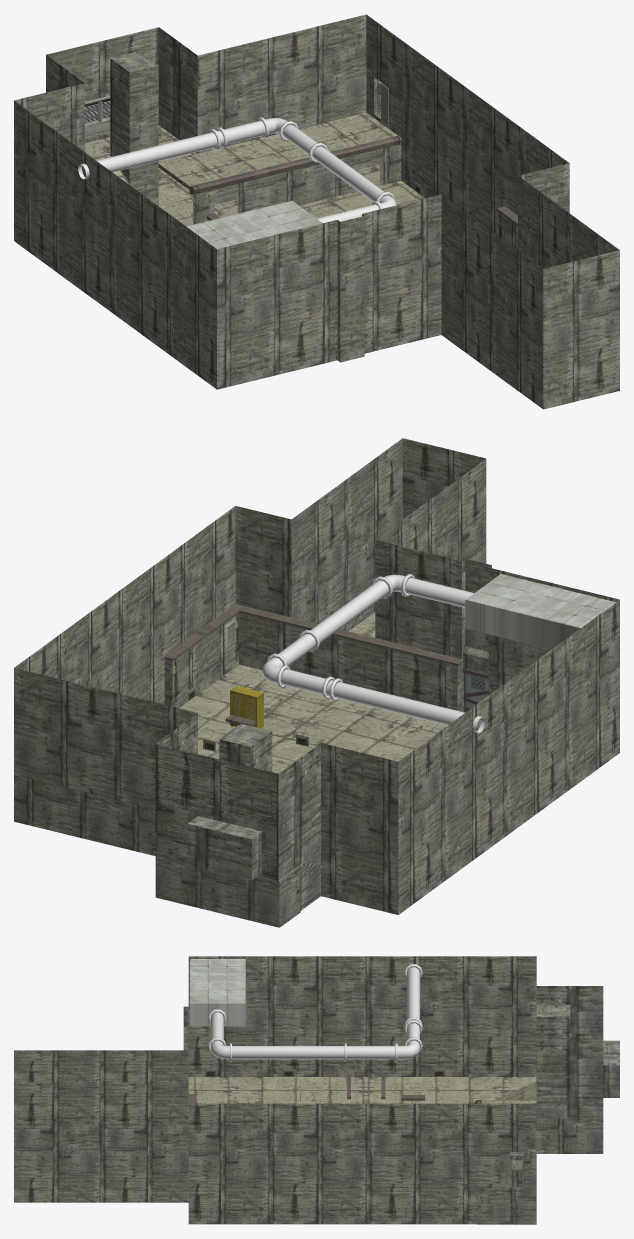
The model's file is SM_Republic_01_02.fbx.
3 views of the same model, one above another, from view 1: azimuth 30°, elevation 25°; view 2: azimuth 150°, elevation 25°; view 3: azimuth 270°, elevation 25° (orthographic). The views are drawn at different scales.
Parts seen in each view (by area): view 1: SM_Republic_01_02, SM_Republic_01_02.008, SM_Republic_01_02.003, SM_Republic_01_02.001; view 2: SM_Republic_01_02, SM_Republic_01_02.003, SM_Republic_01_02.008, SM_Republic_01_02.001; view 3: SM_Republic_01_02, SM_Republic_01_02.008, SM_Republic_01_02.003, SM_Republic_01_02.001, SM_Republic_01_02.002.
Boxes of the visible parts, x1,y1,x2,y2 form: SM_Republic_01_02: (14,14,619,409); SM_Republic_01_02.008: (78,117,396,223); SM_Republic_01_02.003: (85,81,421,370); SM_Republic_01_02.001: (189,76,517,359); SM_Republic_01_02: (14,438,619,927); SM_Republic_01_02.003: (188,574,615,751); SM_Republic_01_02.008: (262,574,484,733); SM_Republic_01_02.001: (164,604,488,726); SM_Republic_01_02: (14,956,619,1224); SM_Republic_01_02.008: (208,964,422,1061); SM_Republic_01_02.003: (189,959,522,1183); SM_Republic_01_02.001: (188,1074,523,1192); SM_Republic_01_02.002: (493,1082,536,1100).
Size of the model in its own units: 2762 by 1024 by 4654.
